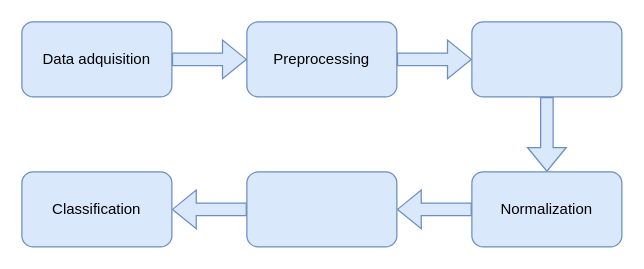
This 644x269 diagram has some shape labels left out. Each missing label, with the centre of its shape:
"Feature extraction (unique features)" belongs at [321,209].
"Segmentaiton" belongs at [546,59].
